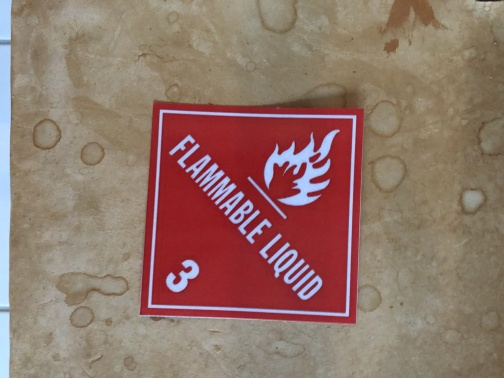FlammableLiquid: (154, 101, 356, 319)
